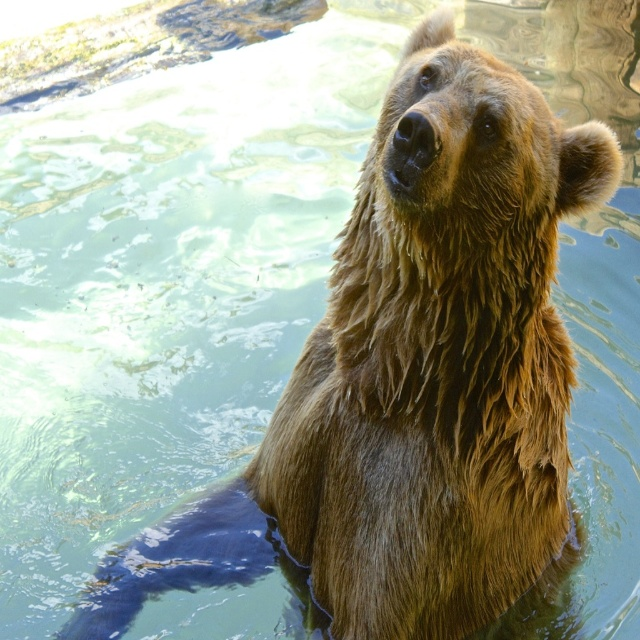Brown bear: (52, 1, 626, 639)
